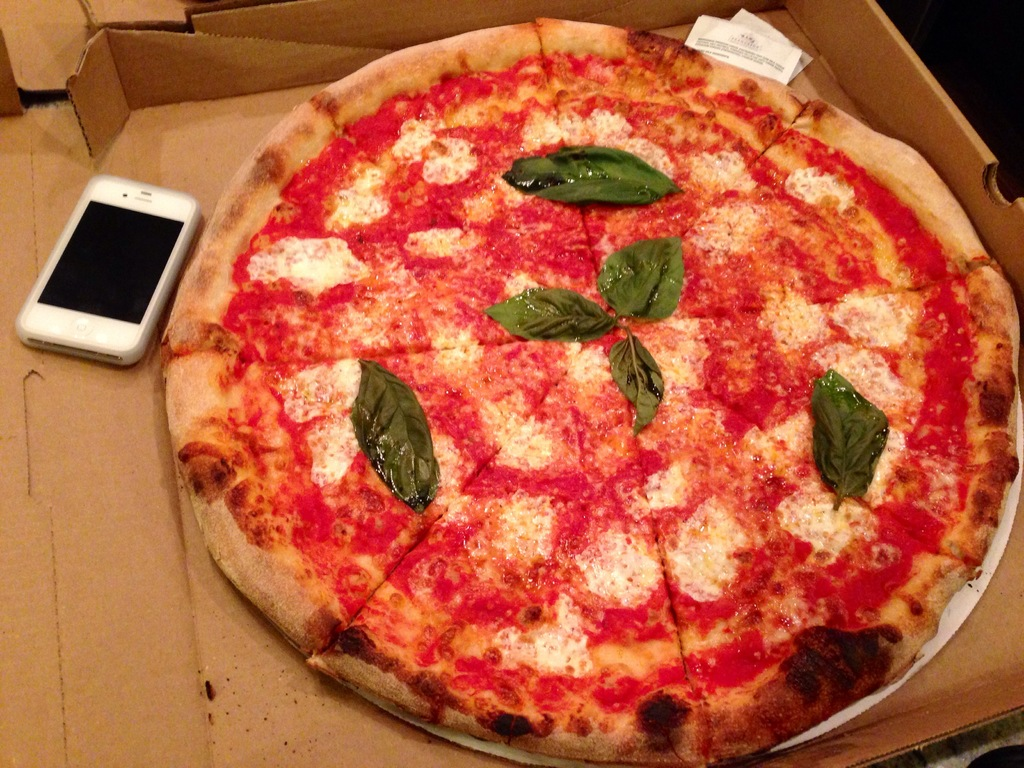Pizza: (153, 5, 1023, 762)
